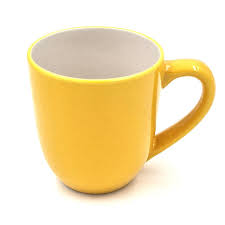mug: (19, 29, 219, 201)
